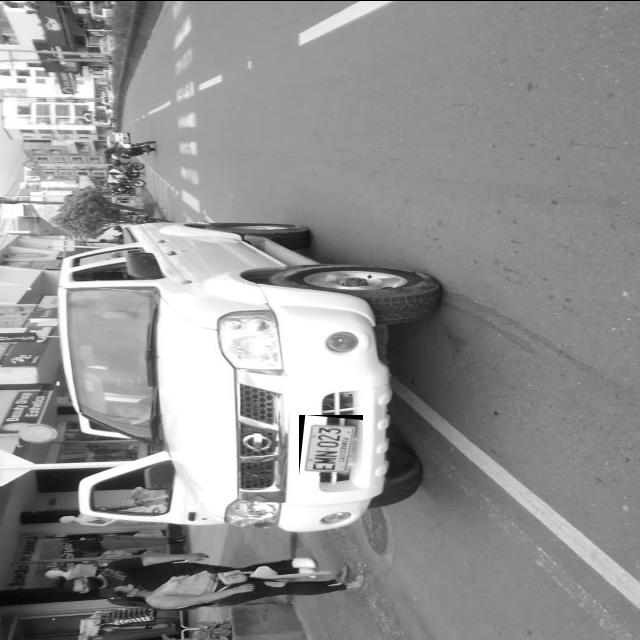plate: (299, 414, 363, 475)
